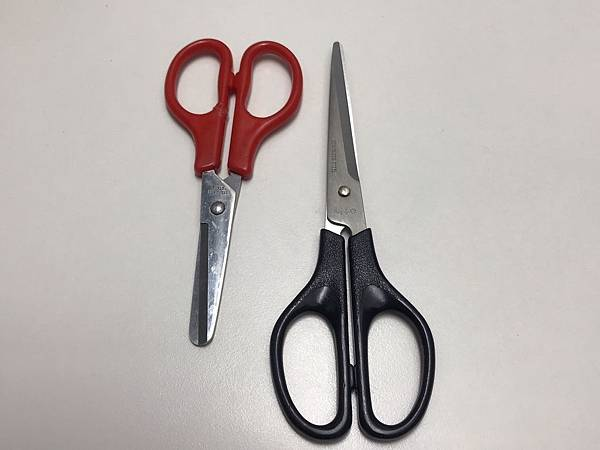scissor: (266, 36, 439, 447), (160, 30, 306, 355)
